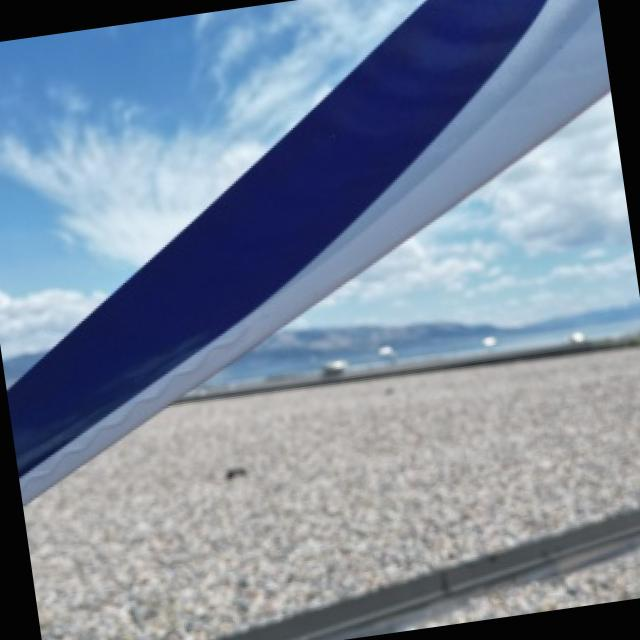healthy: (9, 0, 611, 502), (0, 0, 412, 291)
